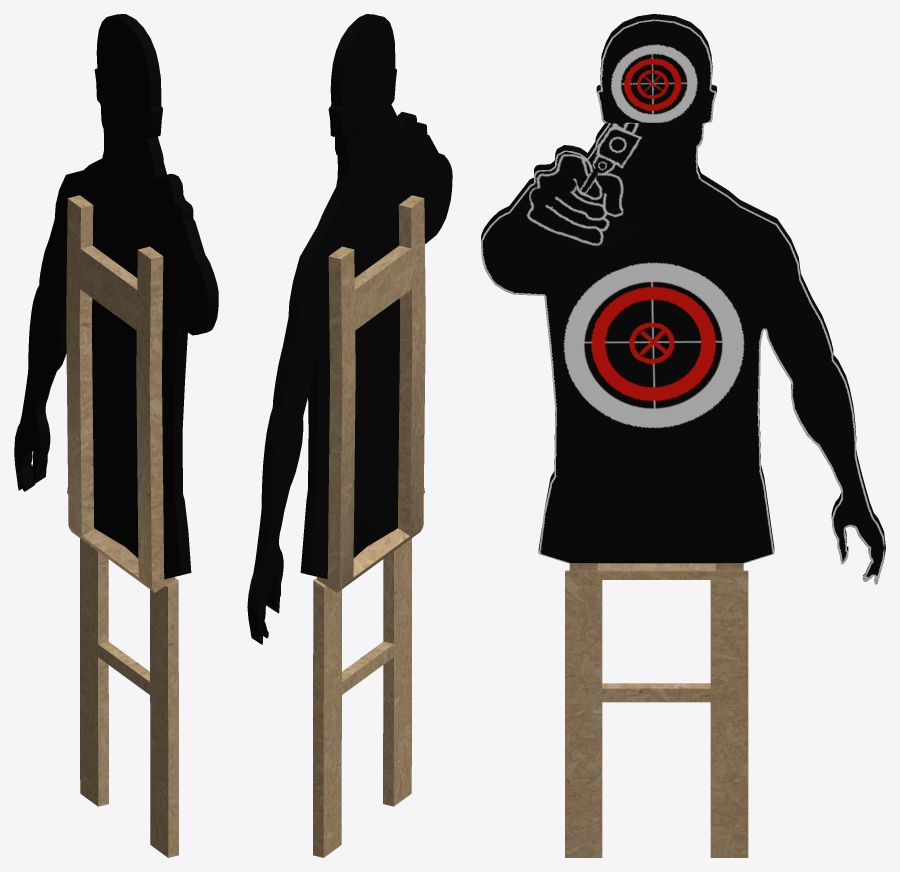
Rendered from SM_CampTarget.fbx.
3 views of the same model, side by side, from view 1: azimuth 30°, elevation 25°; view 2: azimuth 150°, elevation 25°; view 3: azimuth 270°, elevation 25° (orthographic). The views are drawn at different scales.
Parts seen in each view (by area): view 1: SM_CampTarget; view 2: SM_CampTarget; view 3: SM_CampTarget.
Boxes of the visible parts, bbox=[...] form: SM_CampTarget: bbox=[14, 14, 218, 857]; SM_CampTarget: bbox=[247, 14, 452, 857]; SM_CampTarget: bbox=[481, 14, 885, 857].
Size of the model in its own units: 78.75 by 6.31 by 180.
1 material, 1 textured.
